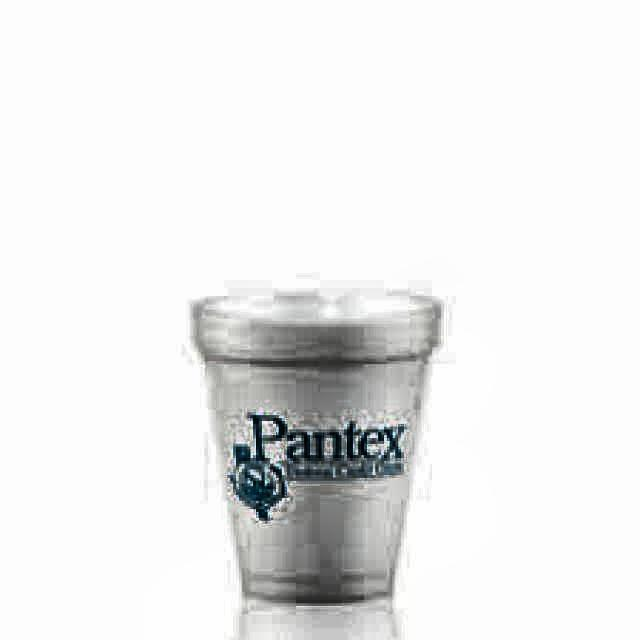Paper: (191, 296, 435, 606)
